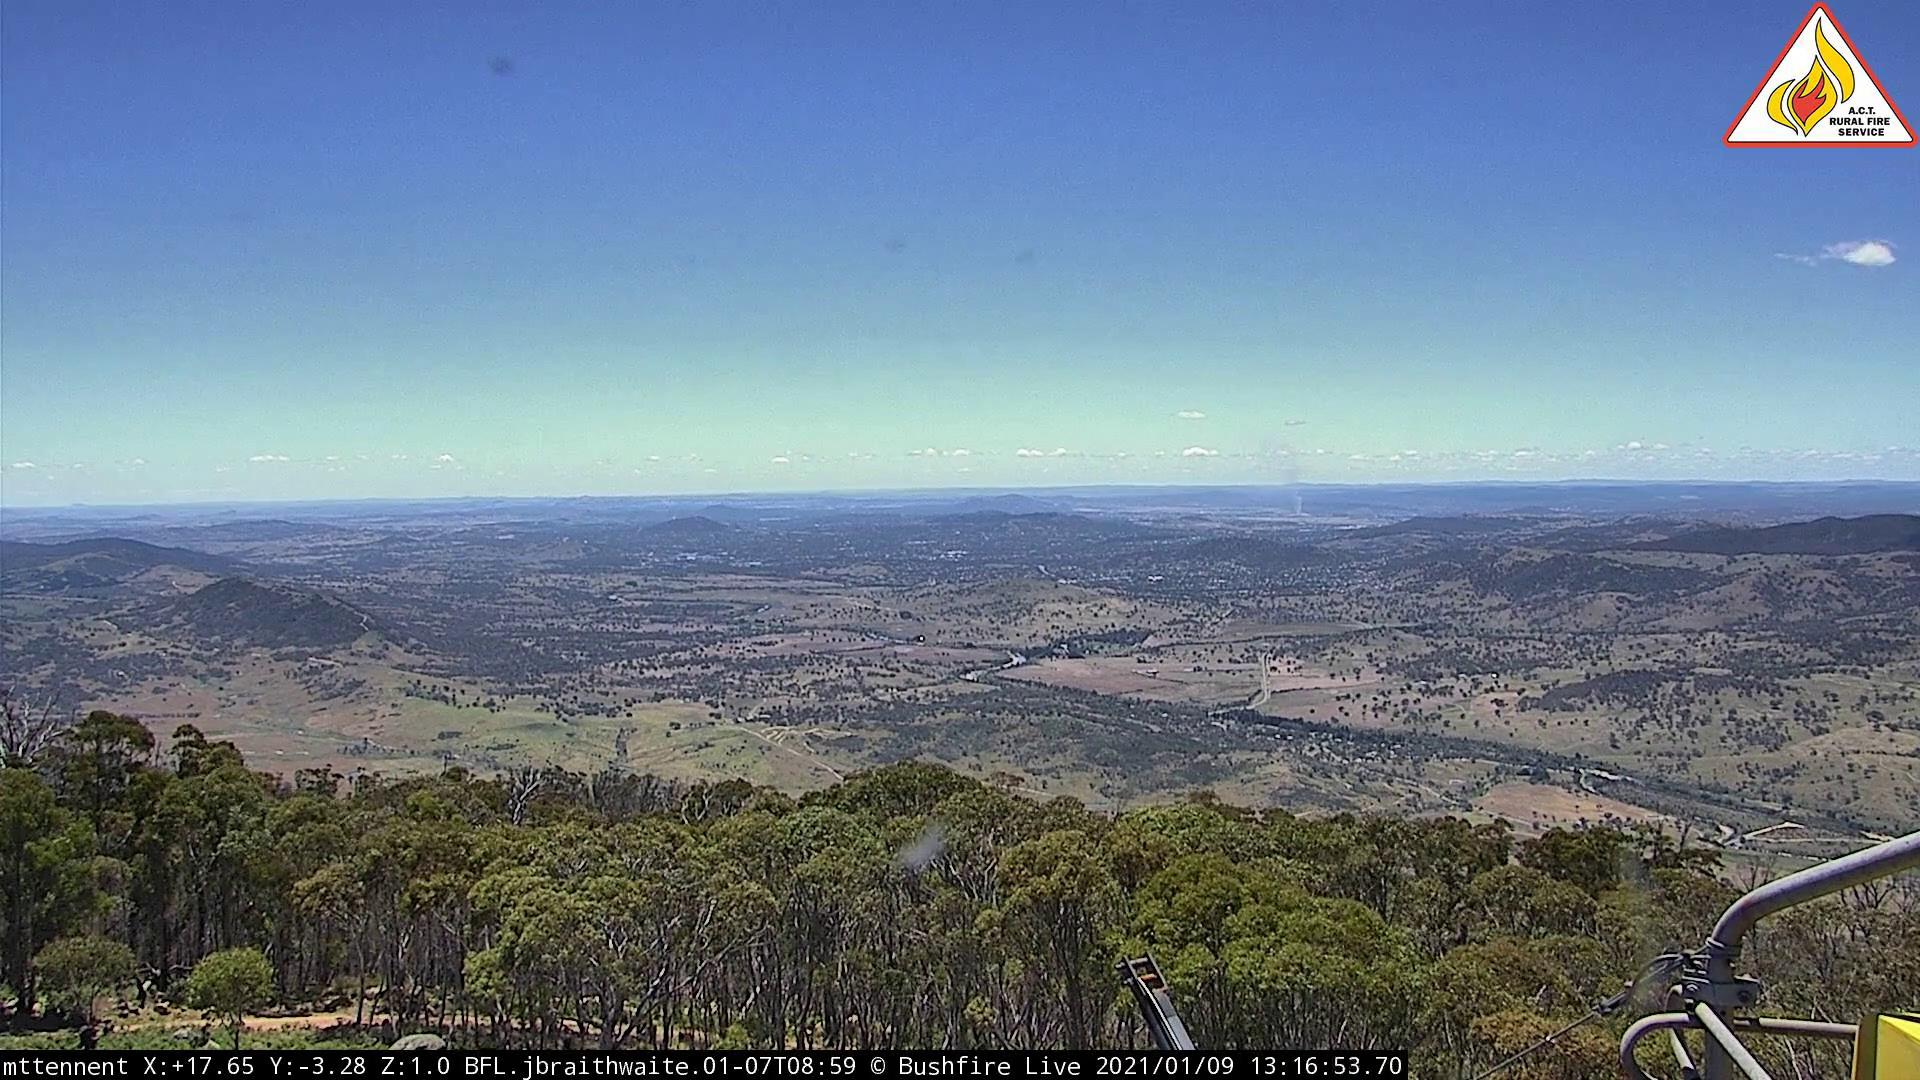Smoke: (1282, 487, 1313, 518)
